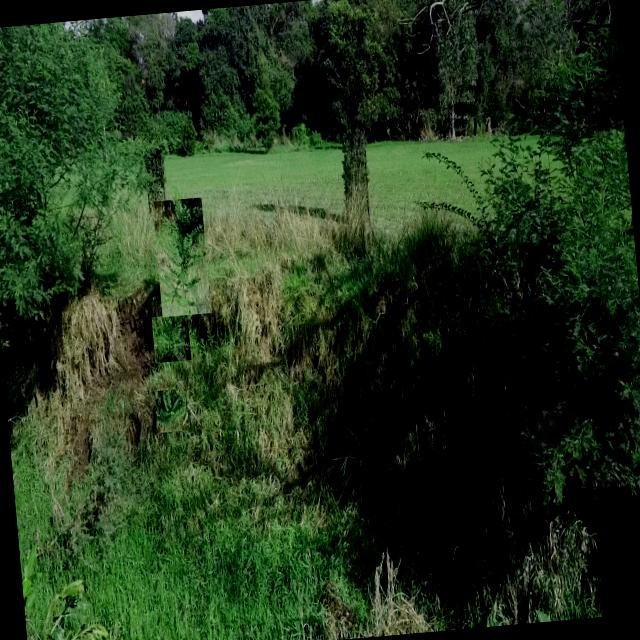Mysore-Thorn-Weed: (152, 197, 211, 317), (151, 314, 191, 362), (154, 388, 190, 433)
